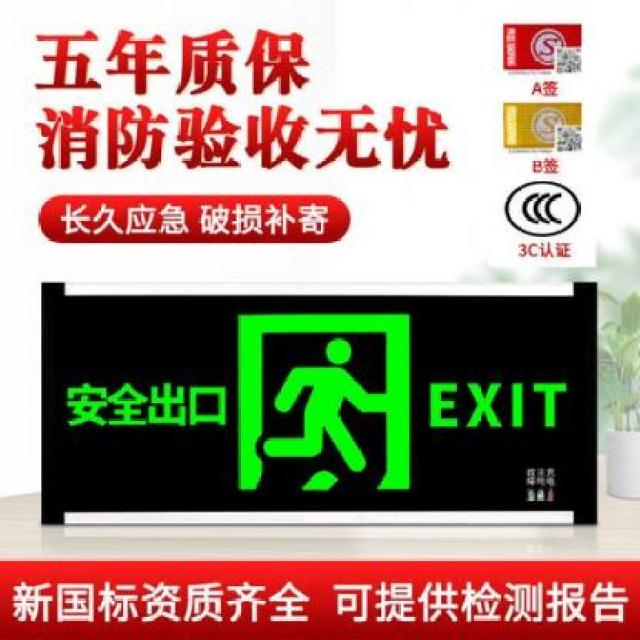exit_sign: (46, 292, 586, 523)
